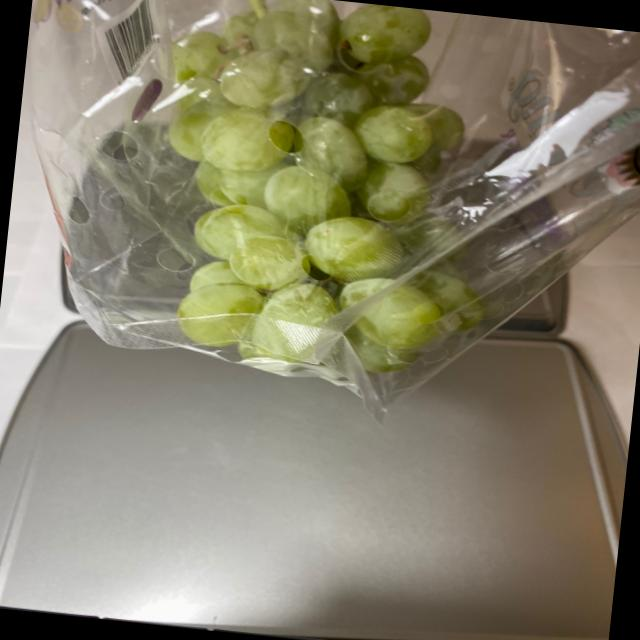grapes: (141, 0, 514, 362)
